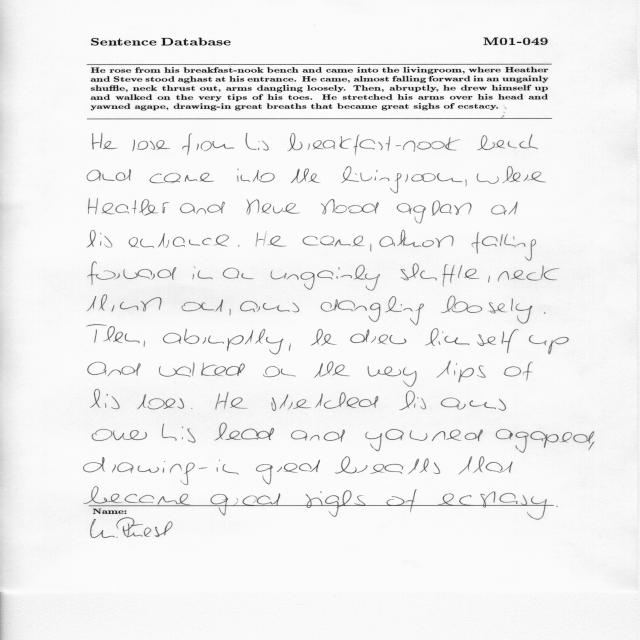word: (207, 489, 554, 506), (84, 457, 239, 485), (287, 133, 461, 156), (341, 167, 462, 194), (163, 329, 283, 355), (321, 296, 424, 325), (270, 265, 380, 291), (365, 429, 483, 451), (442, 296, 533, 324), (425, 328, 519, 354), (272, 392, 379, 411), (88, 262, 176, 285), (401, 263, 479, 287), (496, 429, 572, 453), (472, 232, 537, 260), (335, 457, 440, 474), (397, 201, 472, 224), (256, 460, 320, 484), (129, 233, 229, 248), (89, 199, 169, 216), (379, 230, 454, 248), (159, 362, 245, 377), (87, 295, 162, 312), (477, 166, 546, 184), (182, 133, 234, 155), (498, 265, 559, 282), (368, 366, 417, 387), (437, 361, 486, 382), (214, 423, 274, 440), (477, 134, 538, 150), (458, 457, 512, 475), (87, 325, 140, 343), (321, 199, 379, 214), (441, 398, 506, 411), (351, 330, 407, 345), (247, 199, 300, 214), (529, 335, 569, 354), (137, 394, 184, 410), (88, 362, 141, 376), (149, 173, 214, 184), (291, 429, 345, 442), (303, 236, 364, 247), (84, 487, 123, 504), (92, 429, 147, 441), (240, 301, 299, 312), (162, 424, 196, 443), (314, 361, 350, 378), (215, 392, 248, 410), (91, 389, 120, 409), (504, 362, 533, 381), (180, 202, 225, 214), (182, 299, 223, 312), (87, 169, 131, 181), (399, 391, 426, 410), (237, 169, 275, 182), (310, 329, 337, 346), (291, 169, 321, 184), (88, 230, 113, 248), (256, 232, 286, 247), (132, 140, 170, 151), (573, 431, 595, 450), (246, 133, 269, 151), (93, 133, 117, 149), (263, 366, 296, 377), (158, 494, 190, 505), (491, 202, 518, 215), (223, 268, 253, 279), (125, 494, 154, 503), (193, 267, 213, 280), (465, 179, 467, 187), (370, 244, 372, 252), (289, 343, 291, 351), (488, 276, 490, 283), (229, 309, 231, 316), (144, 341, 145, 347), (238, 245, 240, 247), (544, 312, 546, 314), (533, 496, 534, 498), (191, 408, 192, 409)
